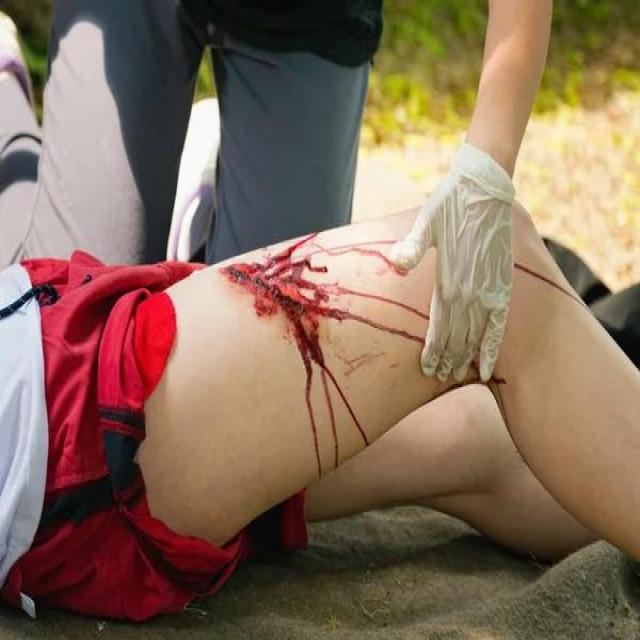flood: (220, 258, 348, 388)
